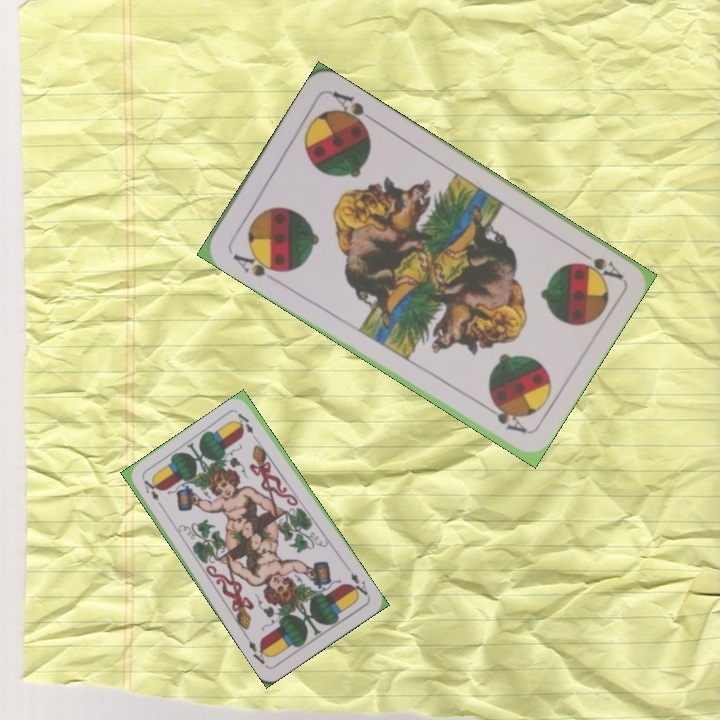EA: (343, 564, 371, 600), (139, 476, 161, 503)
SA: (228, 247, 285, 285), (572, 244, 626, 283)
